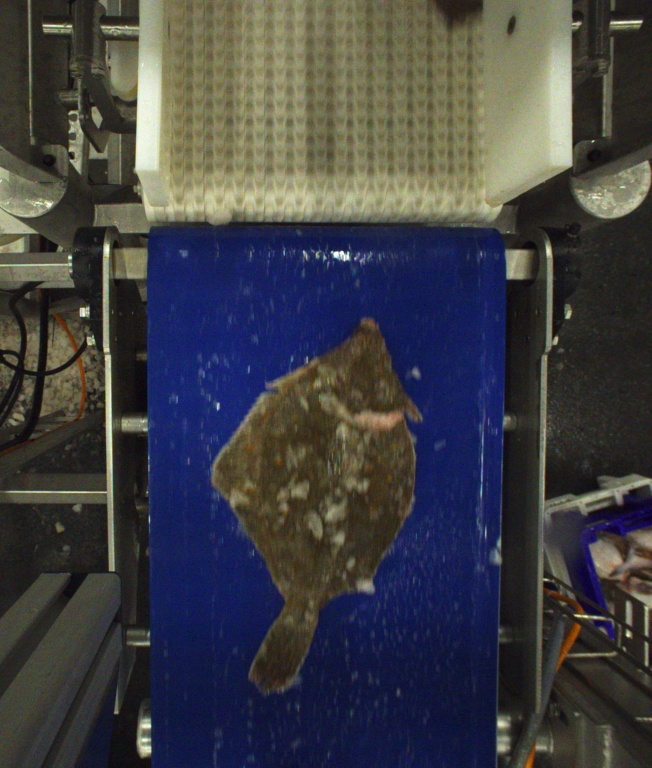PLE: (209, 317, 423, 692)
